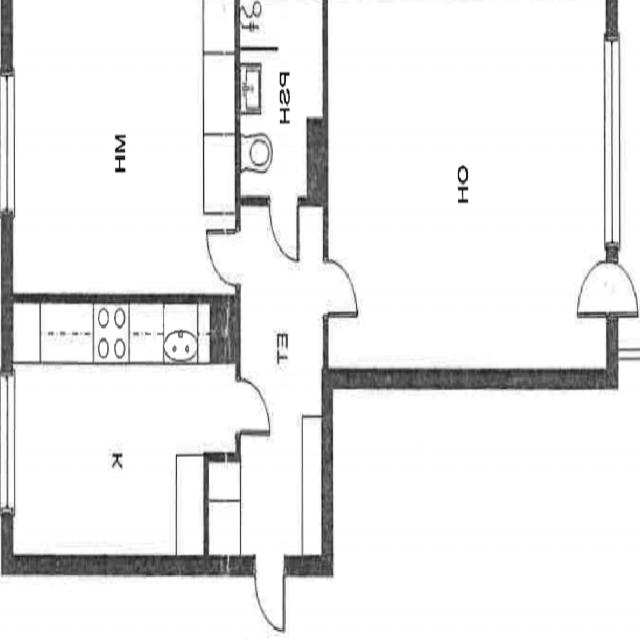door: (255, 555, 286, 631), (577, 261, 617, 316), (206, 230, 241, 285), (606, 261, 640, 316), (324, 259, 358, 314), (270, 197, 299, 260), (236, 378, 269, 432)
